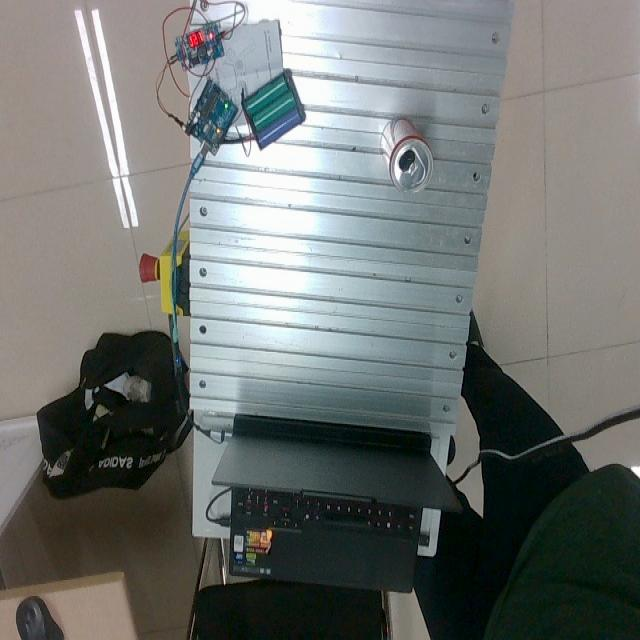coca: (381, 120, 433, 195)
